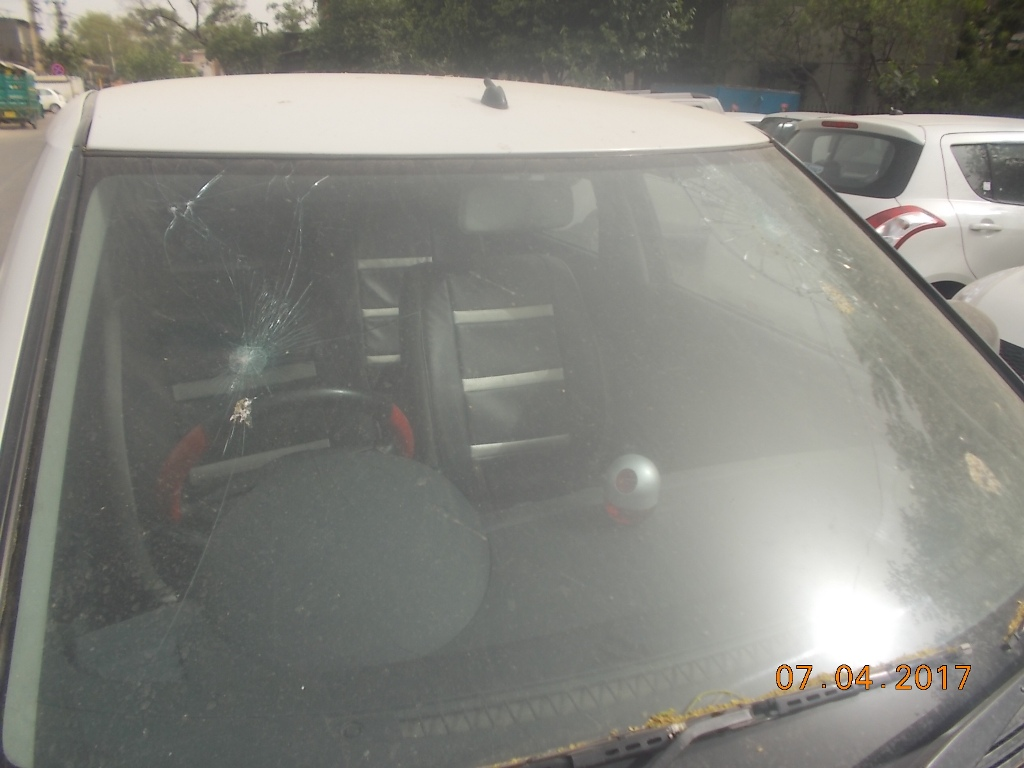Shatter: (174, 212, 339, 489)
